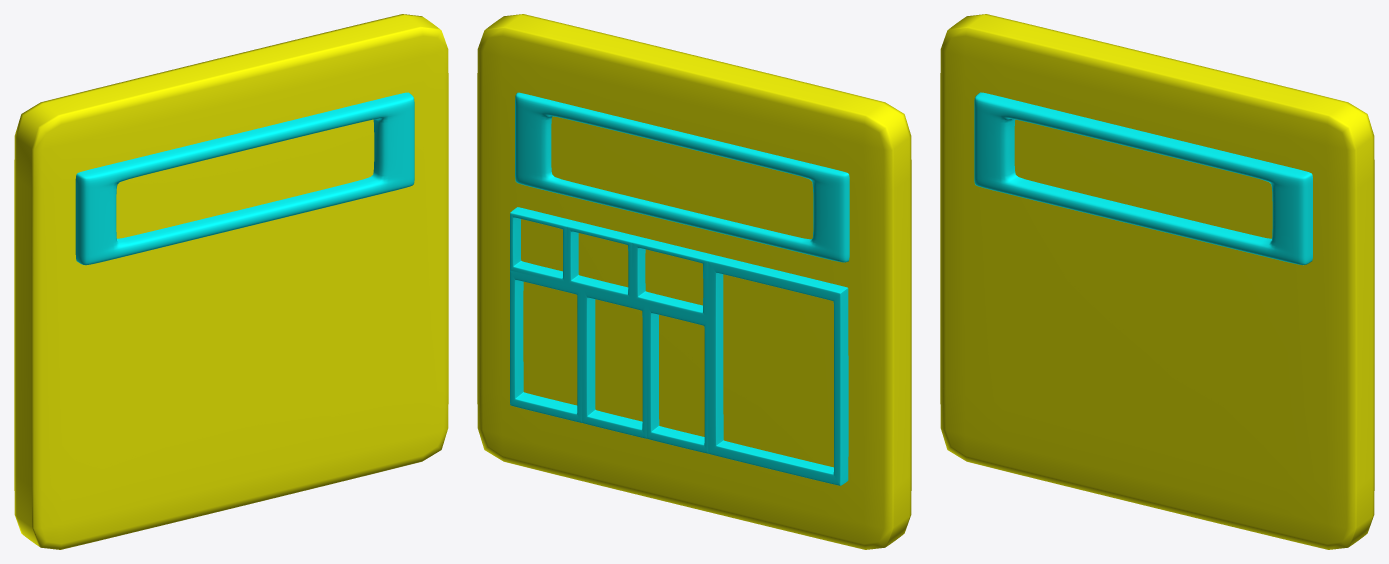
3 views of the same model, side by side, from view 1: azimuth 30°, elevation 25°; view 2: azimuth 150°, elevation 25°; view 3: azimuth 330°, elevation 25° (orthographic).
Parts seen in each view (by area): view 1: polySurface1013; view 2: polySurface1013; view 3: polySurface1013.
Part boxes in pixels (<box>): polySurface1013: <box>14,14,448,549</box>; polySurface1013: <box>477,14,911,549</box>; polySurface1013: <box>940,14,1374,549</box>.
Bounding box in the file's own units: 0.9994 × 0.9994 × 0.163.
